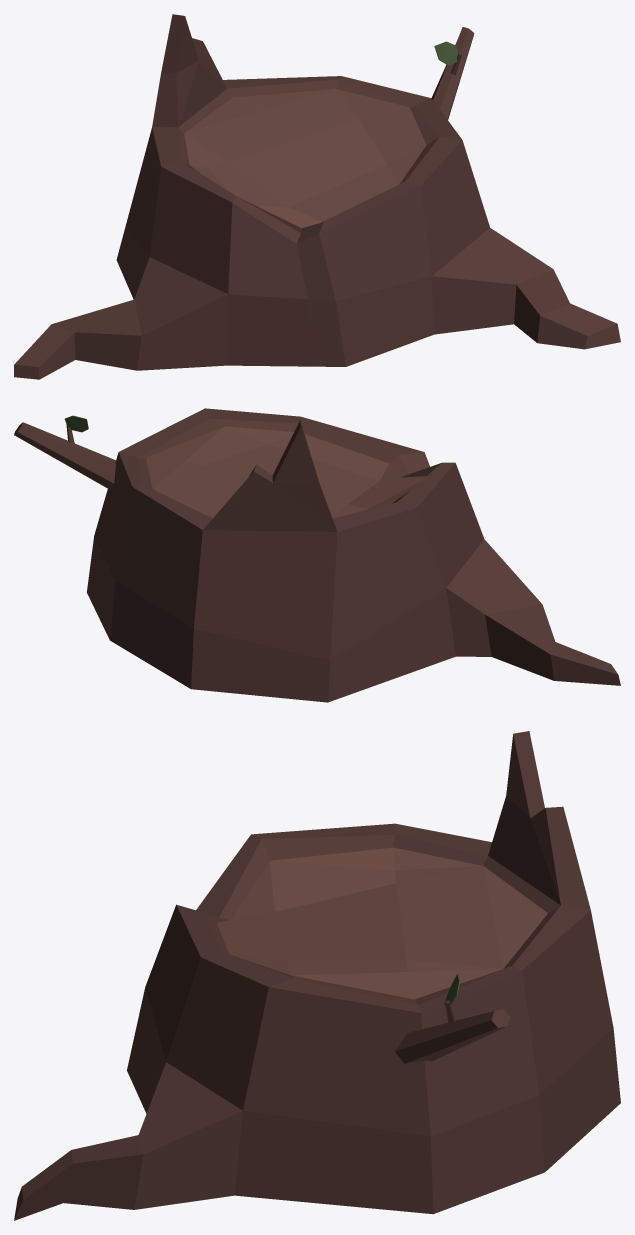
Rendered from TreeStump.glb.
The picture shows the model from 3 angles, top to bottom: view 1: azimuth 30°, elevation 25°; view 2: azimuth 150°, elevation 25°; view 3: azimuth 270°, elevation 25°; orthographic projection. The views are drawn at different scales.
Visible parts, largest first — view 1: TreeStump; view 2: TreeStump; view 3: TreeStump.
Boxes of the visible parts, x1=… form: TreeStump: x1=14, y1=14, x2=620, y2=379; TreeStump: x1=14, y1=408, x2=620, y2=702; TreeStump: x1=14, y1=731, x2=620, y2=1220.
Size of the model in its own units: 1.36 by 0.6216 by 1.03.
